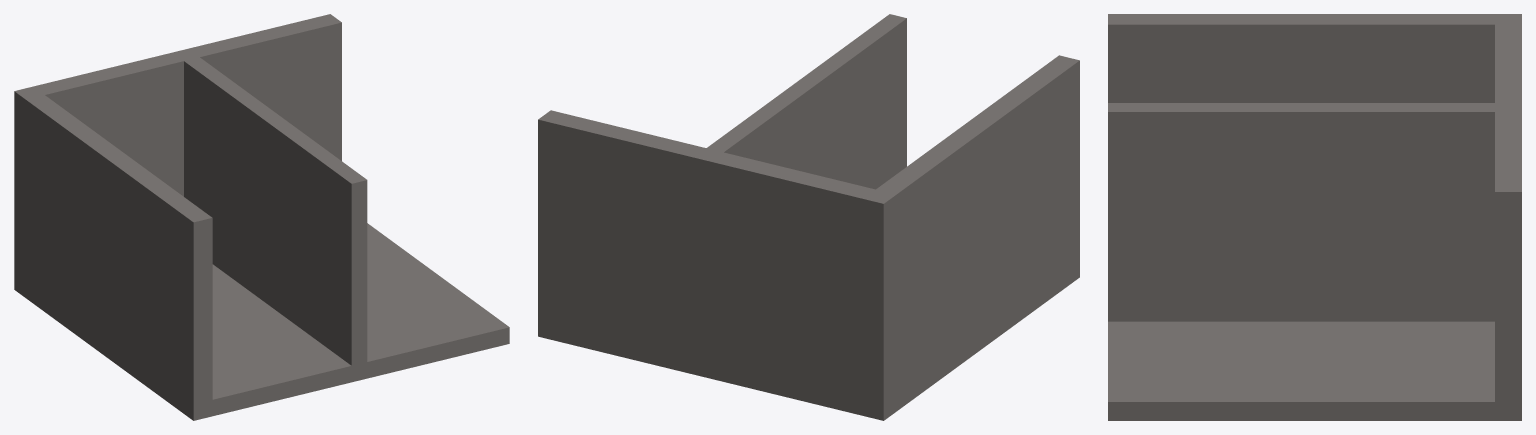
Rendered from SudOuest.fbx.
3 renders of one model, left to right at view 1: azimuth 30°, elevation 25°; view 2: azimuth 150°, elevation 25°; view 3: azimuth 270°, elevation 25°, orthographic. The views are drawn at different scales.
Visible parts, largest first — view 1: SudOuest; view 2: SudOuest; view 3: SudOuest.
Part boxes in pixels (x1,y1,x2,y2): SudOuest: [14, 14, 509, 420]; SudOuest: [538, 14, 1079, 420]; SudOuest: [1108, 14, 1521, 420].
Bounding box in the file's own units: 10.81 × 6.49 × 10.62.
